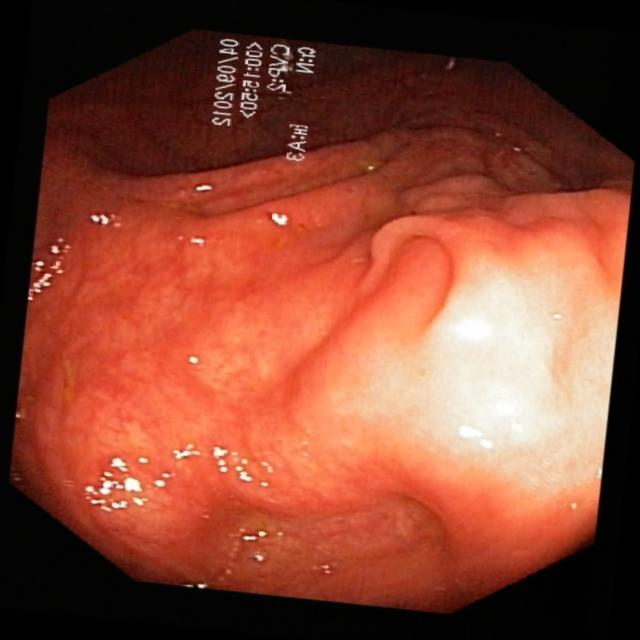ulcerative-colities: (354, 46, 631, 206)
